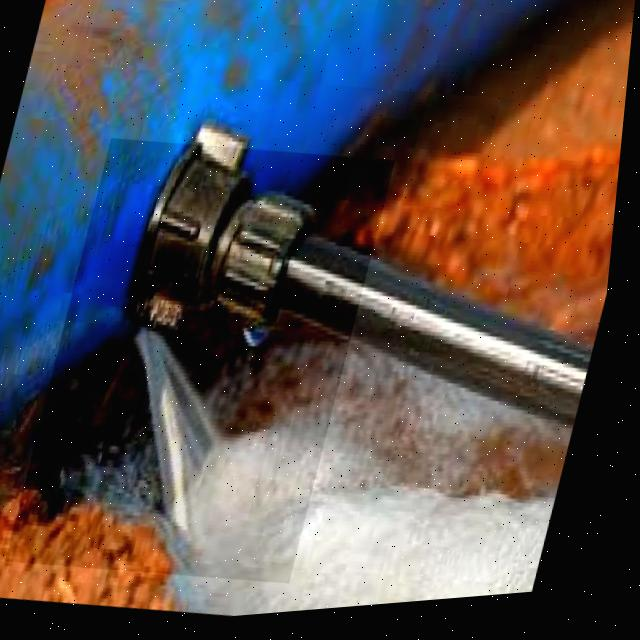corrosion: (45, 256, 242, 454)
